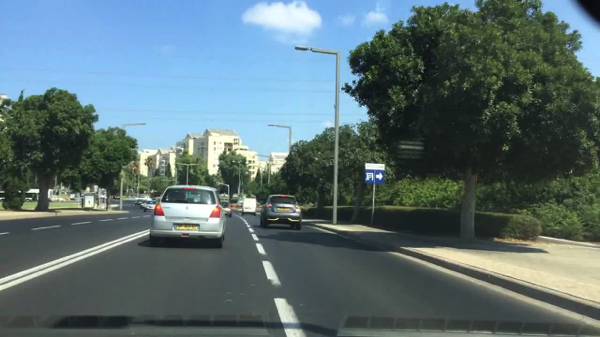bus: (0, 191, 35, 202)
car: (150, 185, 227, 248), (259, 194, 302, 230), (242, 198, 257, 216), (143, 201, 158, 213), (221, 202, 232, 217), (141, 200, 152, 208), (135, 200, 145, 206), (140, 195, 150, 200), (49, 197, 58, 202), (112, 195, 120, 200), (153, 198, 161, 202)
traffic sign: (364, 163, 386, 184)
